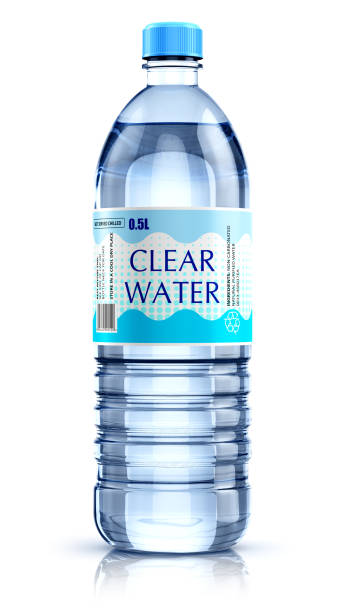HDPE Cap: (141, 22, 204, 59)
PET Bottle: (92, 21, 251, 556)
PVC Label: (94, 208, 252, 345)
